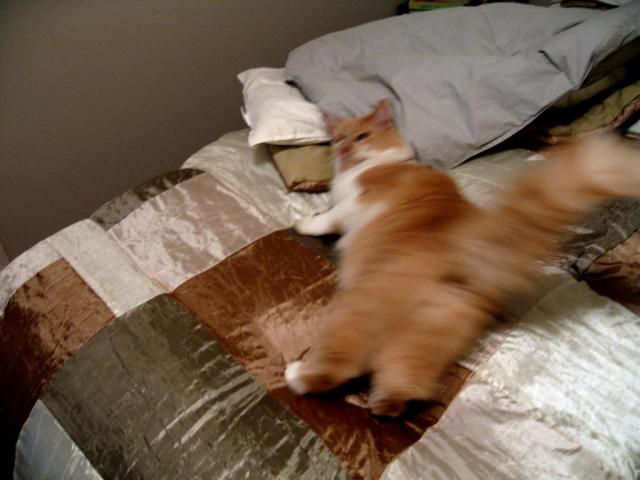Cat: (282, 95, 640, 415)
